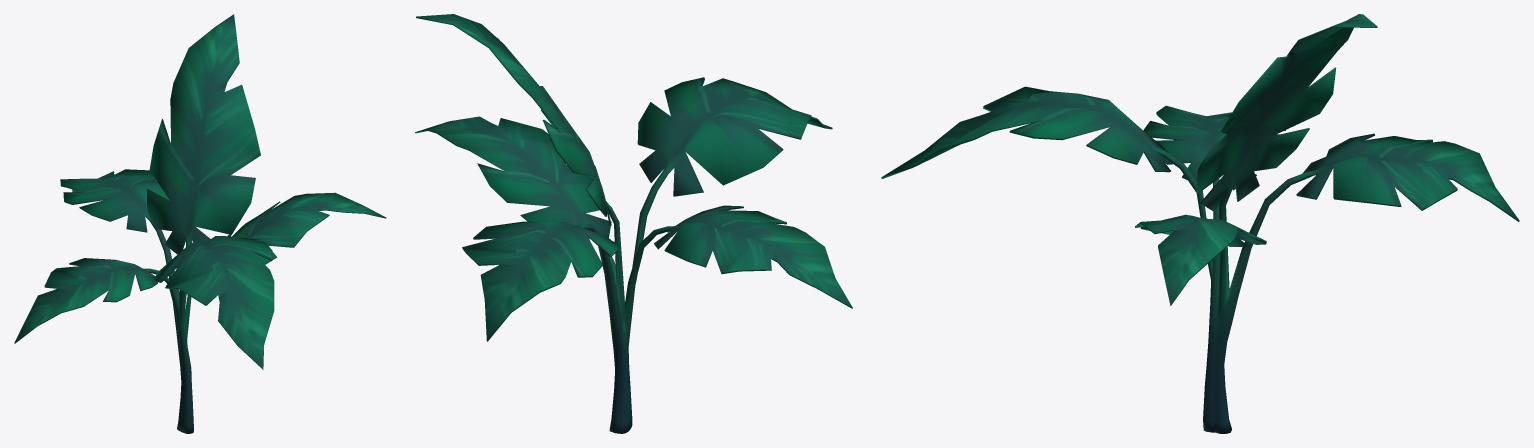
The model's file is BeachPalm.fbx.
The picture shows the model from 3 angles, left to right: view 1: azimuth 30°, elevation 25°; view 2: azimuth 150°, elevation 25°; view 3: azimuth 270°, elevation 25°; orthographic projection. The views are drawn at different scales.
Visible parts, largest first — view 1: LongPalm; view 2: LongPalm; view 3: LongPalm.
Boxes of the visible parts, x1,y1,x2,y2 form: LongPalm: [14, 14, 386, 433]; LongPalm: [415, 14, 852, 433]; LongPalm: [881, 14, 1519, 433].
Bounding box in the file's own units: 362 × 332 × 405.
1 material, 1 textured.
